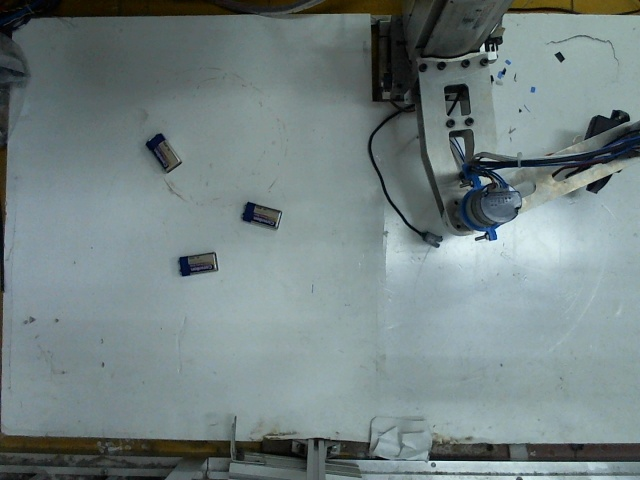battery: (140, 132, 179, 172), (238, 200, 280, 233), (175, 249, 219, 277)
